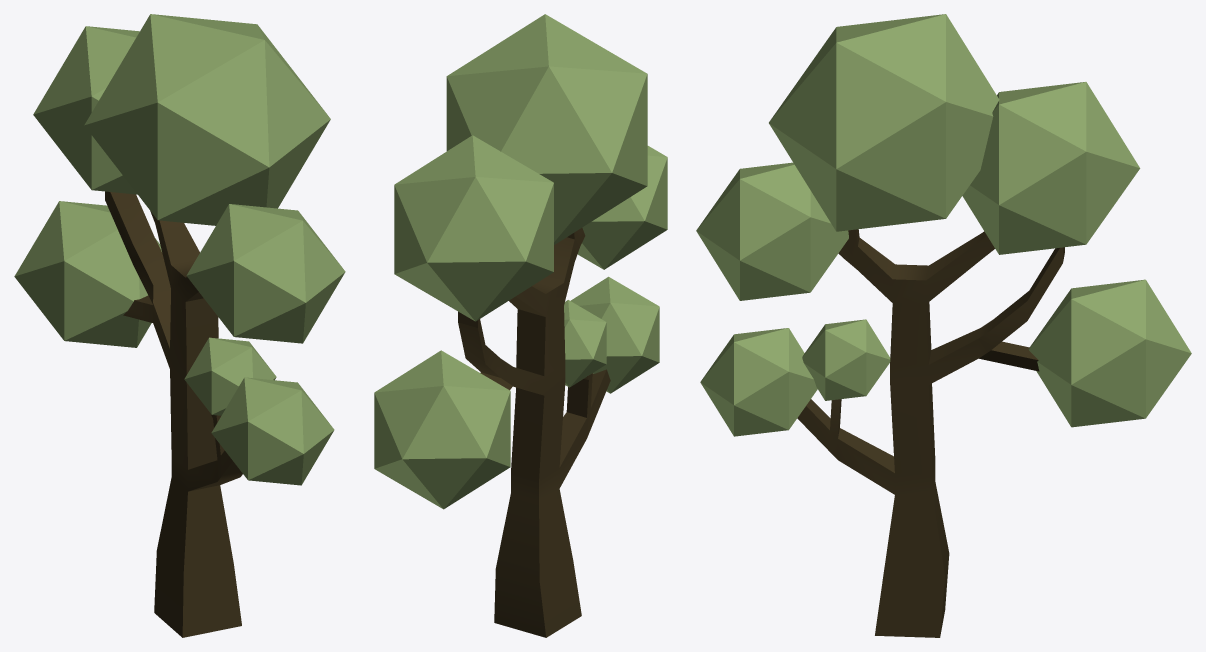
The model's file is Anaknya banyak tree.fbx.
The picture shows the model from 3 angles, left to right: view 1: azimuth 30°, elevation 25°; view 2: azimuth 150°, elevation 25°; view 3: azimuth 270°, elevation 25°; orthographic projection. The views are drawn at different scales.
Parts seen in each view (by area): view 1: group29_pasted__group28_pasted__pasted__group24_pasted__past; view 2: group29_pasted__group28_pasted__pasted__group24_pasted__past; view 3: group29_pasted__group28_pasted__pasted__group24_pasted__past.
Boxes of the visible parts, bbox=[...] form: group29_pasted__group28_pasted__pasted__group24_pasted__past: bbox=[14, 14, 345, 637]; group29_pasted__group28_pasted__pasted__group24_pasted__past: bbox=[374, 14, 667, 637]; group29_pasted__group28_pasted__pasted__group24_pasted__past: bbox=[696, 14, 1191, 637].
Bounding box in the file's own units: 3.8 × 11.37 × 8.59.
